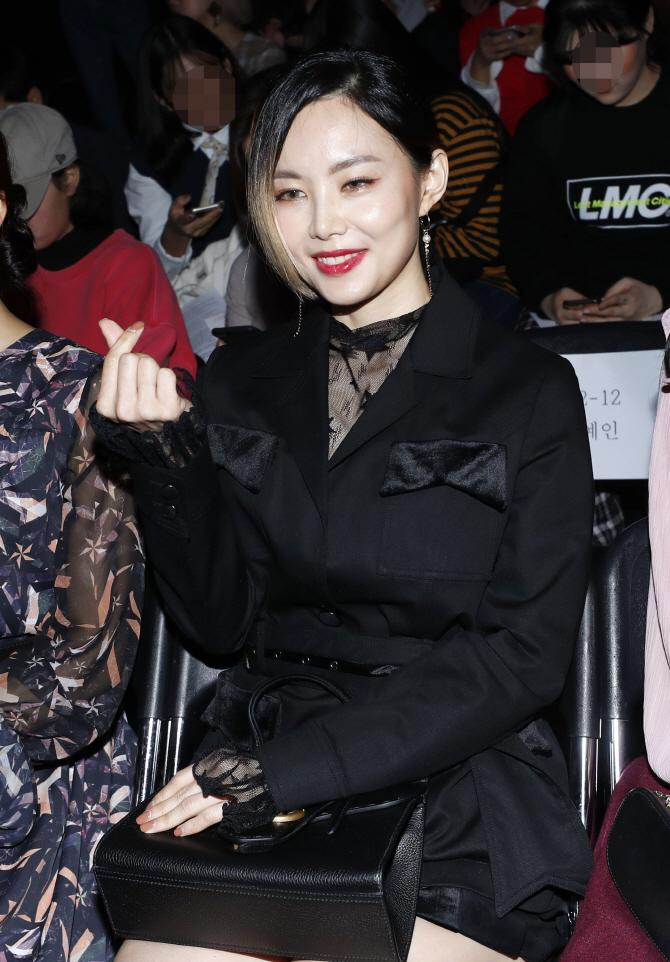heart gesture: (95, 315, 147, 356)
